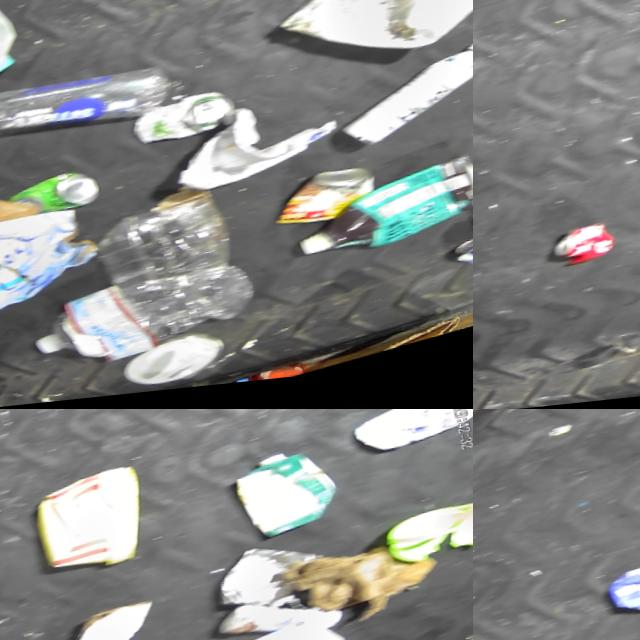can: (209, 538, 329, 630), (262, 164, 377, 243), (122, 89, 236, 158), (6, 165, 103, 228), (543, 220, 617, 275), (447, 232, 473, 290), (462, 628, 473, 640)
non_white_jug: (280, 161, 473, 280), (28, 467, 151, 588), (225, 450, 337, 553)
plastic_bottle: (23, 260, 259, 380), (0, 46, 172, 174)
